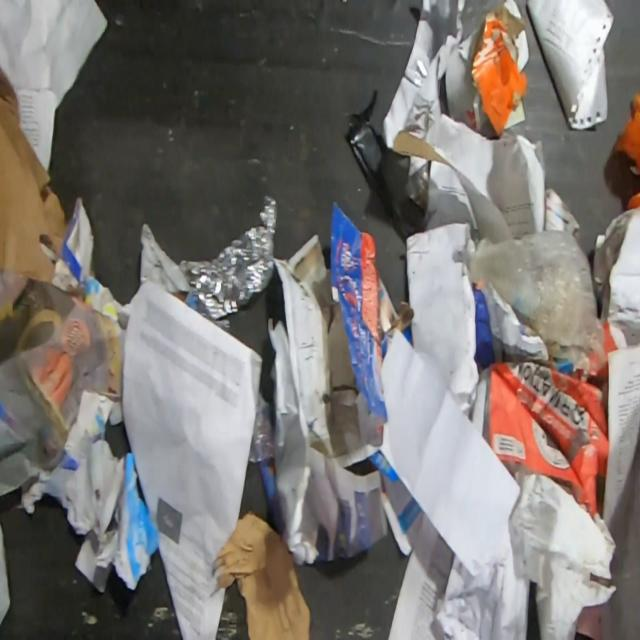cardboard: (484, 320, 630, 519), (329, 196, 412, 427), (0, 61, 67, 284), (213, 511, 310, 640), (470, 4, 530, 137), (60, 196, 97, 286), (472, 287, 497, 371), (392, 130, 450, 165), (616, 92, 640, 176), (626, 192, 640, 209)
metal: (178, 192, 278, 323)
rigid_plastic: (344, 83, 428, 240)
soft_plastic: (461, 227, 602, 359)
